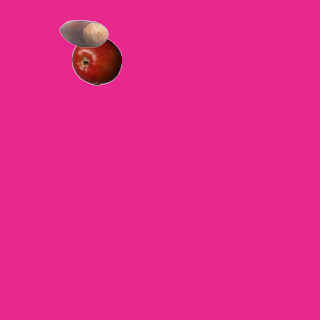Apple Braeburn: (71, 35, 121, 85)
Hazelnut: (58, 8, 108, 58)
